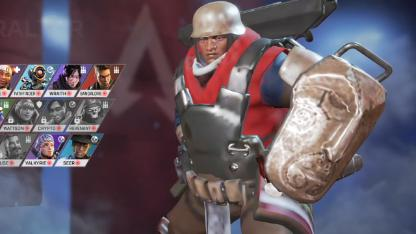Target: (158, 0, 349, 233)
